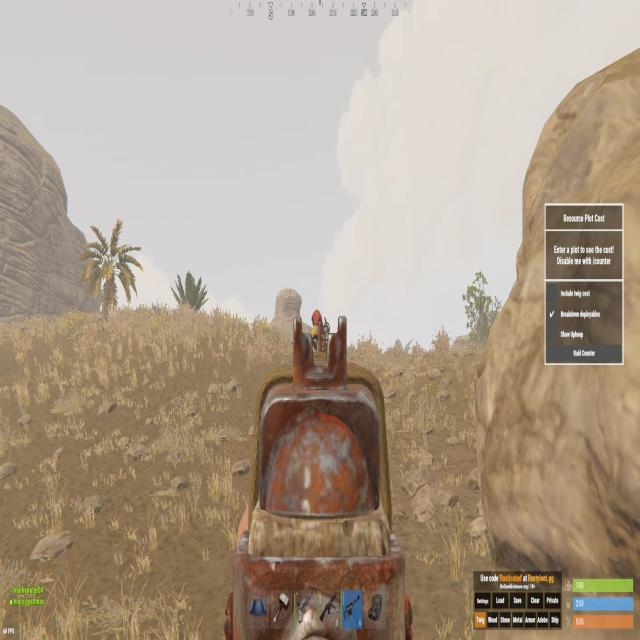Player: (310, 309, 330, 333)
